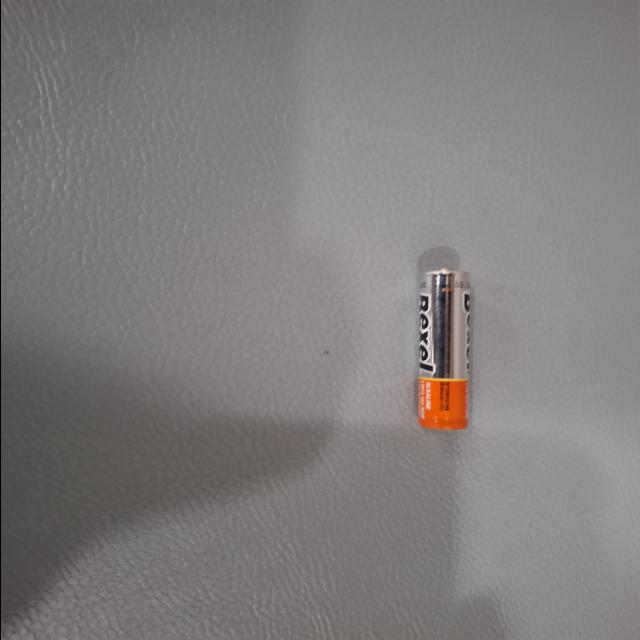AAA: (146, 125, 358, 168)
